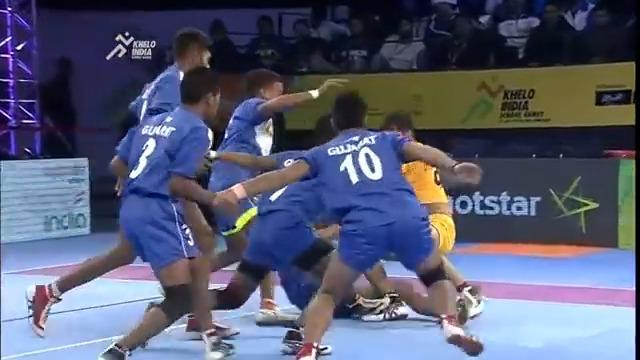Player: (204, 90, 484, 358), (25, 64, 240, 358), (203, 67, 351, 330)
Raider: (356, 110, 483, 324)
